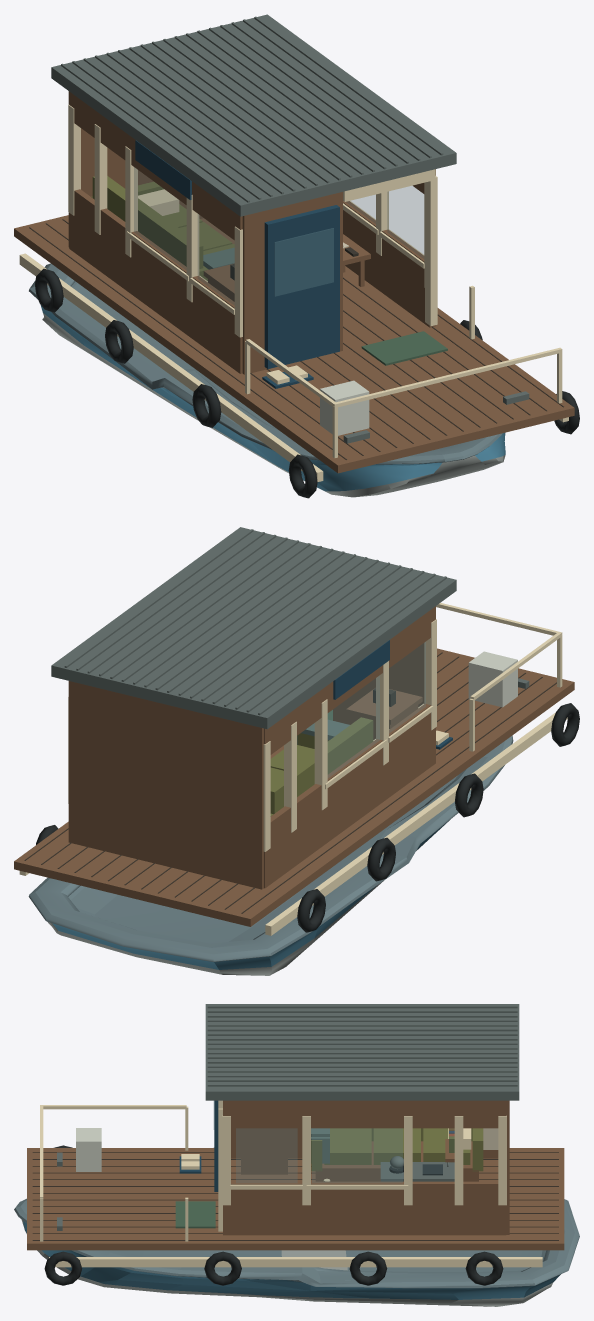
File: fujita-houseboat.glb
3 renders of one model, top to bottom at view 1: azimuth 30°, elevation 25°; view 2: azimuth 150°, elevation 25°; view 3: azimuth 270°, elevation 25°, orthographic. The views are drawn at different scales.
Visible parts, largest first — view 1: Houseboat fittings (×8), Houseboat cutaway roof, Cabin window (×3), Houseboat_gunwale, Houseboat_hull, Door frosted panel, Houseboat_inner_hull; view 2: Houseboat fittings (×7), Houseboat cutaway roof, Houseboat_gunwale, Cabin window (×2), Houseboat_hull, Houseboat_inner_hull; view 3: Houseboat fittings (×10), Houseboat cutaway roof, Houseboat_gunwale, Cabin window (×2), Houseboat_hull, Houseboat_inner_hull.
Boxes of the visible parts, x1,y1,x2,y2 form: Houseboat fittings (×8): (14, 91, 579, 498); Houseboat cutaway roof: (51, 14, 456, 216); Cabin window (×3): (134, 167, 423, 304); Houseboat_gunwale: (29, 263, 502, 464); Houseboat_hull: (40, 305, 505, 491); Door frosted panel: (274, 228, 333, 296); Houseboat_inner_hull: (42, 313, 505, 497); Houseboat fittings (×7): (14, 602, 579, 935); Houseboat cutaway roof: (51, 527, 456, 729); Houseboat_gunwale: (28, 735, 513, 962); Cabin window (×2): (328, 642, 425, 777); Houseboat_hull: (52, 819, 450, 969); Houseboat_inner_hull: (48, 821, 448, 975); Houseboat fittings (×10): (27, 1100, 564, 1285); Houseboat cutaway roof: (205, 1004, 519, 1100); Houseboat_gunwale: (14, 1198, 579, 1288); Cabin window (×2): (236, 1128, 402, 1182); Houseboat_hull: (23, 1221, 560, 1299); Houseboat_inner_hull: (21, 1219, 553, 1306).
Bounding box in the file's own units: 3.58 × 3.36 × 7.79.
